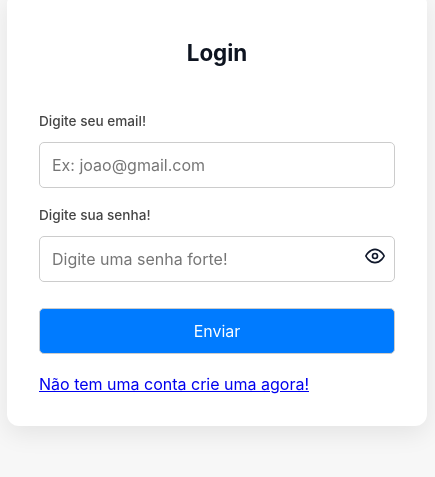
should handle service response › should display the error message when the service returns status 401
The width and height of the screenshot is (435, 477).
Type "lucas@gmail.com" into the field with placeholder "Ex: joao@gmail.com" at (217,165), box x1=39 y1=142 x2=395 y2=188
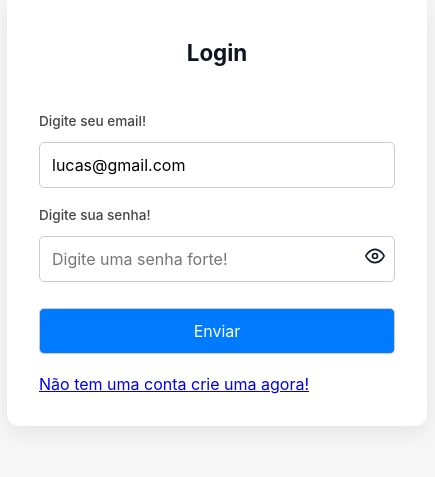
Type "123456" into the password field with placeholder "Digite uma senha forte!" at (217,259), box x1=39 y1=236 x2=395 y2=282
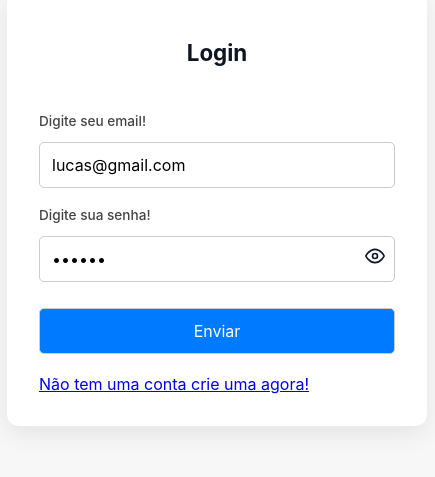
Click the button "Enviar" at (217,331), box x1=39 y1=308 x2=395 y2=354
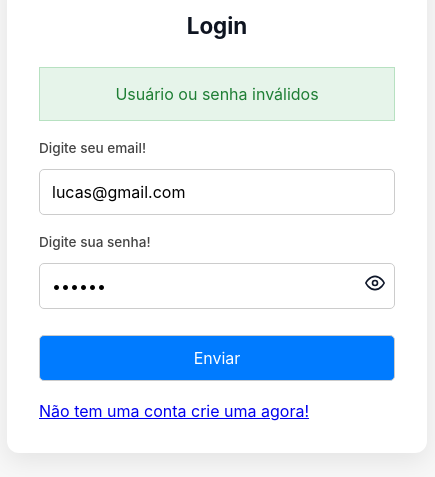
expect the text "Usuário ou senha inválidos" is shown: met, box x1=115 y1=84 x2=319 y2=104
